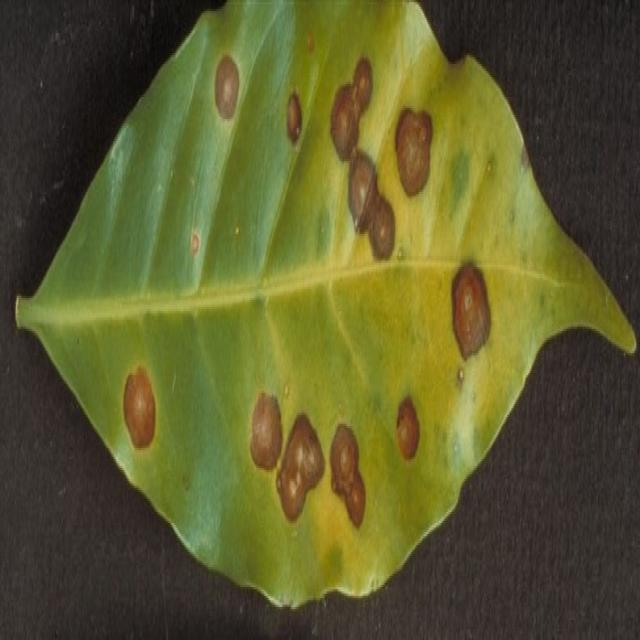Enfermedad-Mancha-de-hierro: (25, 0, 635, 609)
